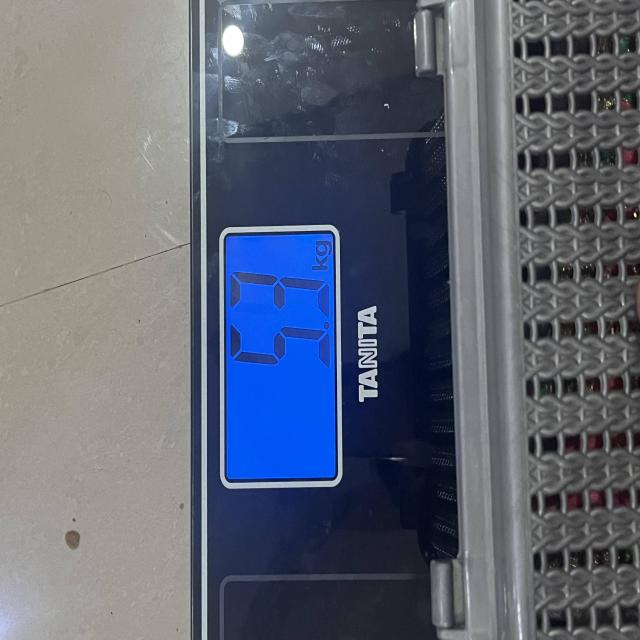ws: (57, 0, 640, 640)
